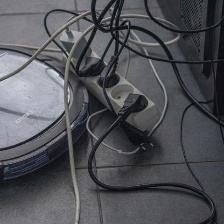three_eye_plug: (60, 43, 161, 136)
